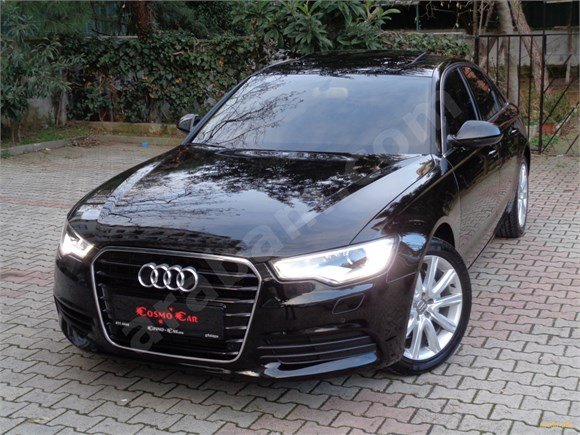audi: (127, 259, 201, 296)
